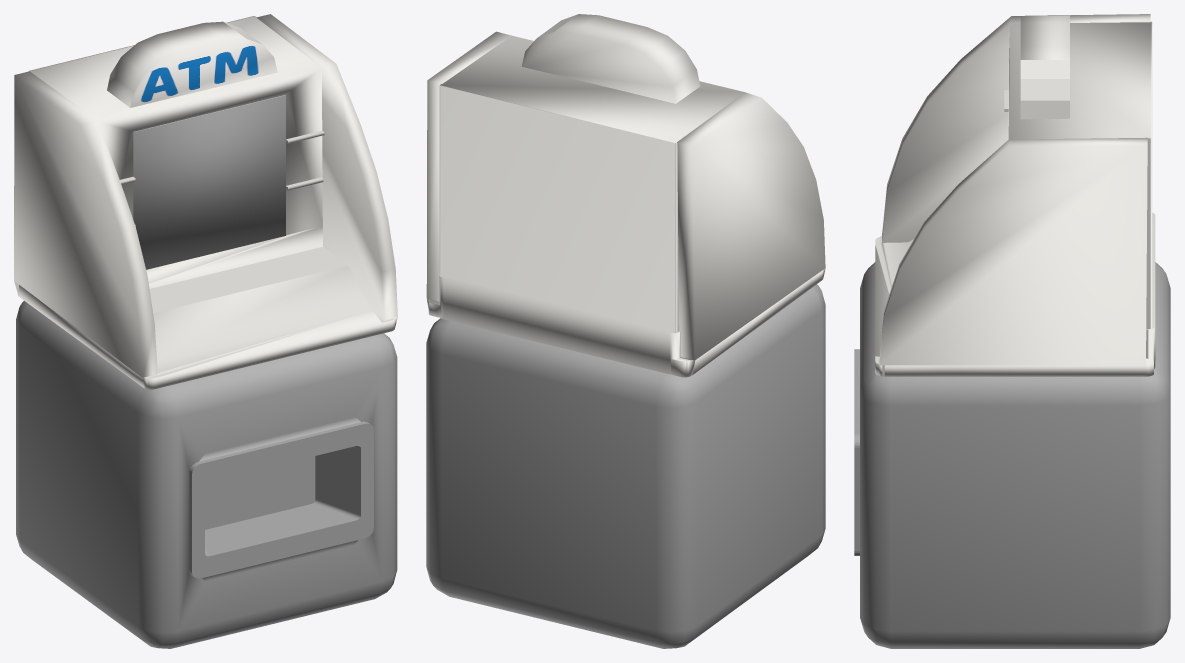
Rendered from Atm_R.fbx.
3 renders of one model, left to right at view 1: azimuth 30°, elevation 25°; view 2: azimuth 150°, elevation 25°; view 3: azimuth 270°, elevation 25°, orthographic. The views are drawn at different scales.
Visible parts, largest first — view 1: atm; view 2: atm; view 3: atm.
Part boxes in pixels (box(x1,y1,x2,y2)): atm: box(14, 14, 397, 648); atm: box(426, 14, 825, 648); atm: box(854, 14, 1170, 648).
Size of the model in its own units: 202 by 398 by 204.
Materials: 3 (1 with a texture image).
